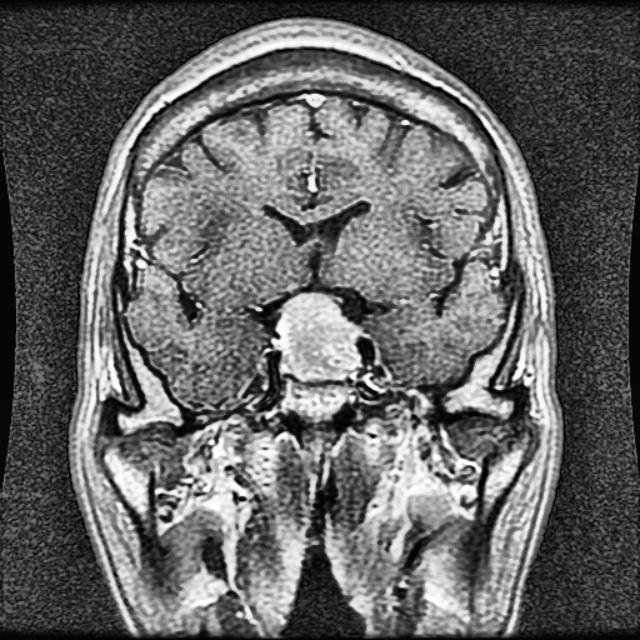Pituitary: (282, 293, 359, 379)
